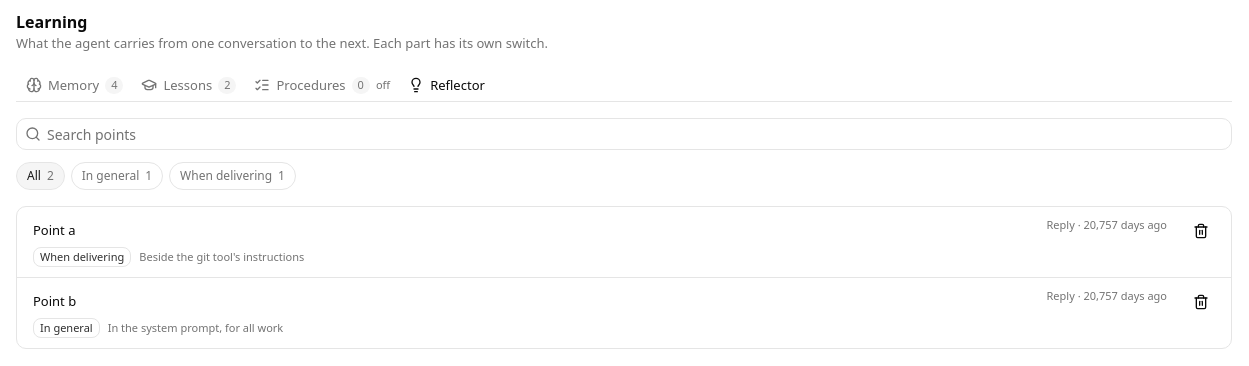
Test case: Learning filters › filters points by entry point chip
Expected: the button "In general 1" is shown, [71,162,163,190]
Click the button "When delivering 1": (232, 176) [169,162,296,190]
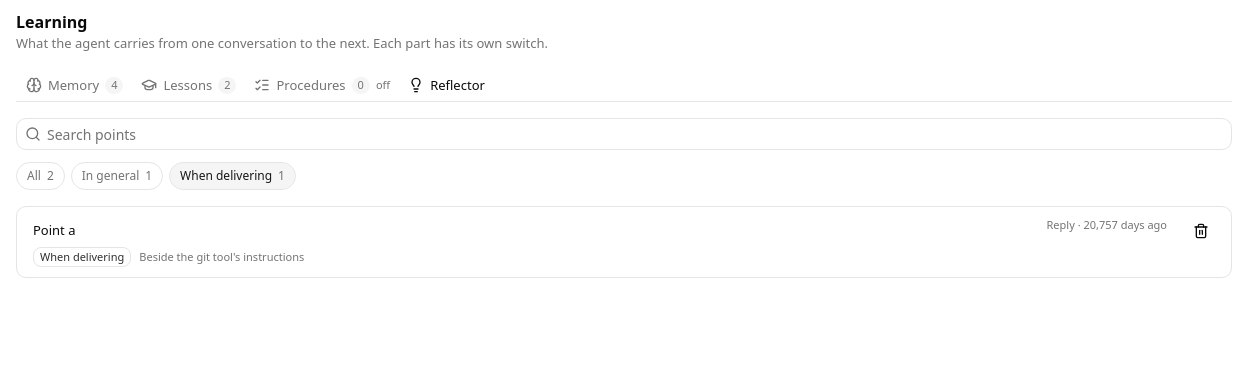
Expected: the button "Point a" is shown, [33,221,967,240]
Now the button "Point b" is gone
In the search field labelled "Search points": (636, 134) [41,118,1231,150], type "zzz"
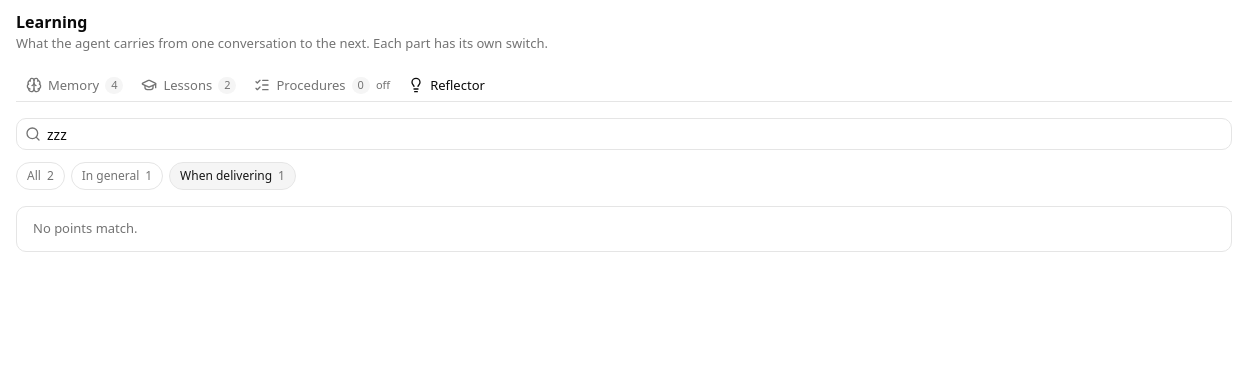
Now the text "No points match." is shown, box [33,219,138,237]
